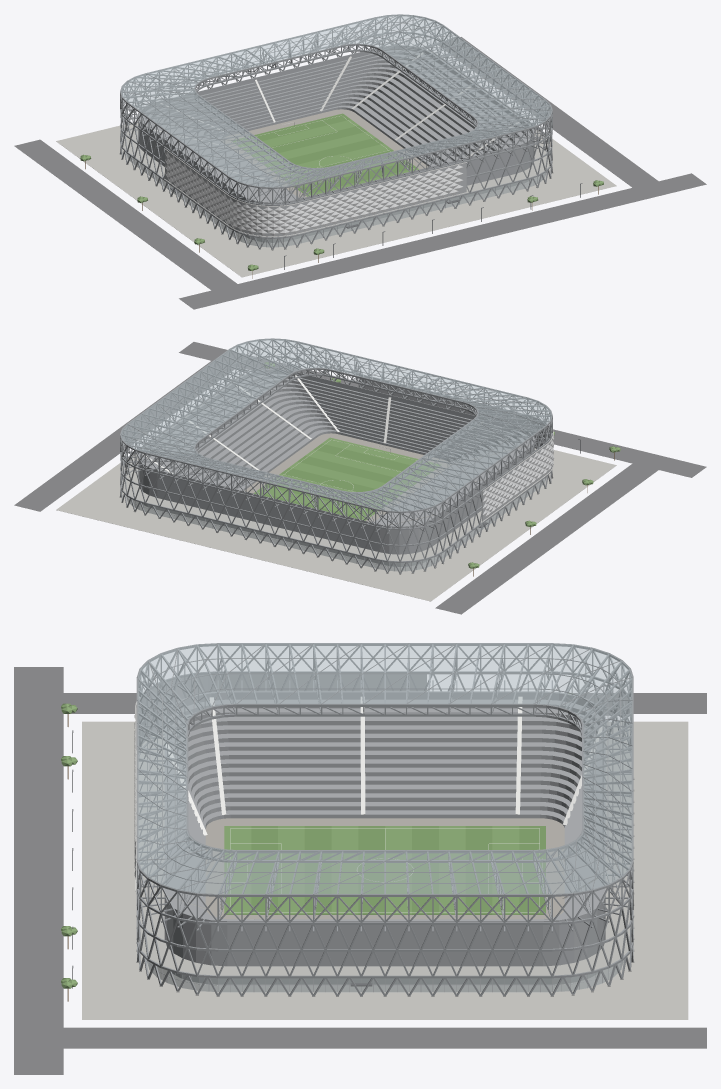
Rendered from clay-etfe-truss-stadium-clay-v001.glb.
The picture shows the model from 3 angles, top to bottom: view 1: azimuth 30°, elevation 25°; view 2: azimuth 150°, elevation 25°; view 3: azimuth 270°, elevation 25°; orthographic projection. The views are drawn at different scales.
Parts seen in each view (by area): view 1: CLAY_STEEL, CLAY_GLASS, CLAY_SEAT, CLAY_ASPHALT, CLAY_PAVING, CLAY_ETFE, CLAY_PITCH, CLAY_PITCH2, CLAY_PALE, CLAY_TRACK, CLAY_ETFEBACK, CLAY_CONCRETE (+2 smaller); view 2: CLAY_STEEL, CLAY_SEAT, CLAY_GLASS, CLAY_PAVING, CLAY_ASPHALT, CLAY_PITCH2, CLAY_PITCH, CLAY_CONCRETE, CLAY_ETFE, CLAY_TRACK, CLAY_ETFEBACK, CLAY_PALE (+2 smaller); view 3: CLAY_GLASS, CLAY_SEAT, CLAY_STEEL, CLAY_PAVING, CLAY_ASPHALT, CLAY_PITCH2, CLAY_PITCH, CLAY_CONCRETE, CLAY_TRACK, CLAY_ETFEBACK, CLAY_PALE, CLAY_INTERIOR (+2 smaller).
Part boxes in pixels (left/top/right/bottom): CLAY_STEEL: left=120, top=14, right=552, bottom=249; CLAY_GLASS: left=121, top=14, right=551, bottom=247; CLAY_SEAT: left=138, top=45, right=534, bottom=204; CLAY_ASPHALT: left=14, top=37, right=706, bottom=309; CLAY_PAVING: left=56, top=50, right=616, bottom=277; CLAY_ETFE: left=165, top=151, right=463, bottom=236; CLAY_PITCH: left=231, top=113, right=416, bottom=193; CLAY_PITCH2: left=240, top=119, right=418, bottom=196; CLAY_PALE: left=154, top=52, right=519, bottom=236; CLAY_TRACK: left=221, top=109, right=428, bottom=197; CLAY_ETFEBACK: left=165, top=150, right=466, bottom=236; CLAY_CONCRETE: left=121, top=127, right=550, bottom=237; CLAY_STEEL: left=120, top=338, right=552, bottom=573; CLAY_SEAT: left=138, top=369, right=534, bottom=554; CLAY_GLASS: left=121, top=338, right=551, bottom=571; CLAY_PAVING: left=56, top=374, right=616, bottom=601; CLAY_ASPHALT: left=14, top=342, right=706, bottom=614; CLAY_PITCH2: left=256, top=437, right=440, bottom=518; CLAY_PITCH: left=253, top=443, right=432, bottom=520; CLAY_CONCRETE: left=121, top=468, right=481, bottom=561; CLAY_ETFE: left=482, top=436, right=554, bottom=517; CLAY_TRACK: left=244, top=433, right=451, bottom=521; CLAY_ETFEBACK: left=358, top=375, right=552, bottom=521; CLAY_PALE: left=142, top=375, right=553, bottom=525; CLAY_GLASS: left=138, top=643, right=632, bottom=992; CLAY_SEAT: left=164, top=691, right=605, bottom=966; CLAY_STEEL: left=136, top=643, right=633, bottom=995; CLAY_PAVING: left=82, top=721, right=688, bottom=1019; CLAY_ASPHALT: left=14, top=667, right=706, bottom=1074; CLAY_PITCH2: left=224, top=826, right=519, bottom=914; CLAY_PITCH: left=251, top=826, right=545, bottom=914; CLAY_CONCRETE: left=138, top=735, right=631, bottom=978; CLAY_TRACK: left=205, top=818, right=564, bottom=919; CLAY_ETFEBACK: left=138, top=674, right=426, bottom=743; CLAY_PALE: left=135, top=691, right=604, bottom=919; CLAY_INTERIOR: left=172, top=972, right=598, bottom=984.
Bounding box in the file's own units: 312 × 36.5 × 224.
